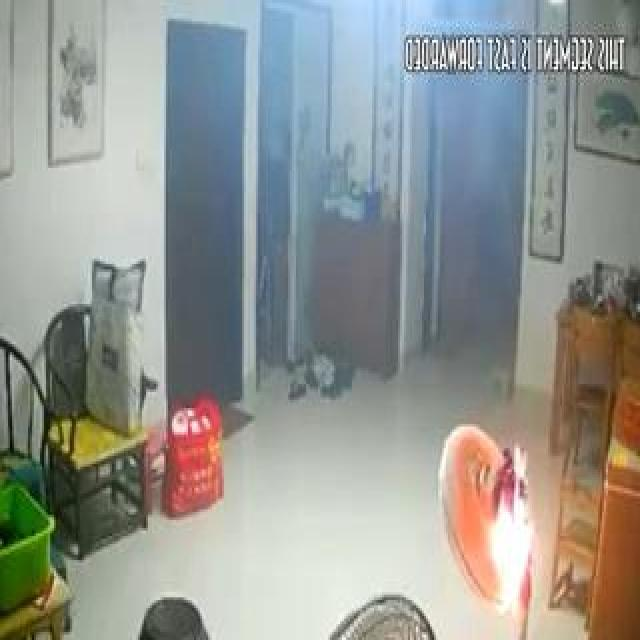Fire: (434, 382, 542, 622)
